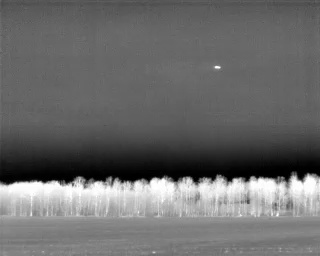DRONE: (211, 62, 224, 74)
